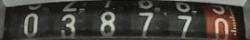digits: (171, 0, 190, 40), (211, 2, 230, 40), (59, 0, 77, 40), (100, 11, 115, 35), (137, 12, 154, 33), (23, 13, 38, 36)
